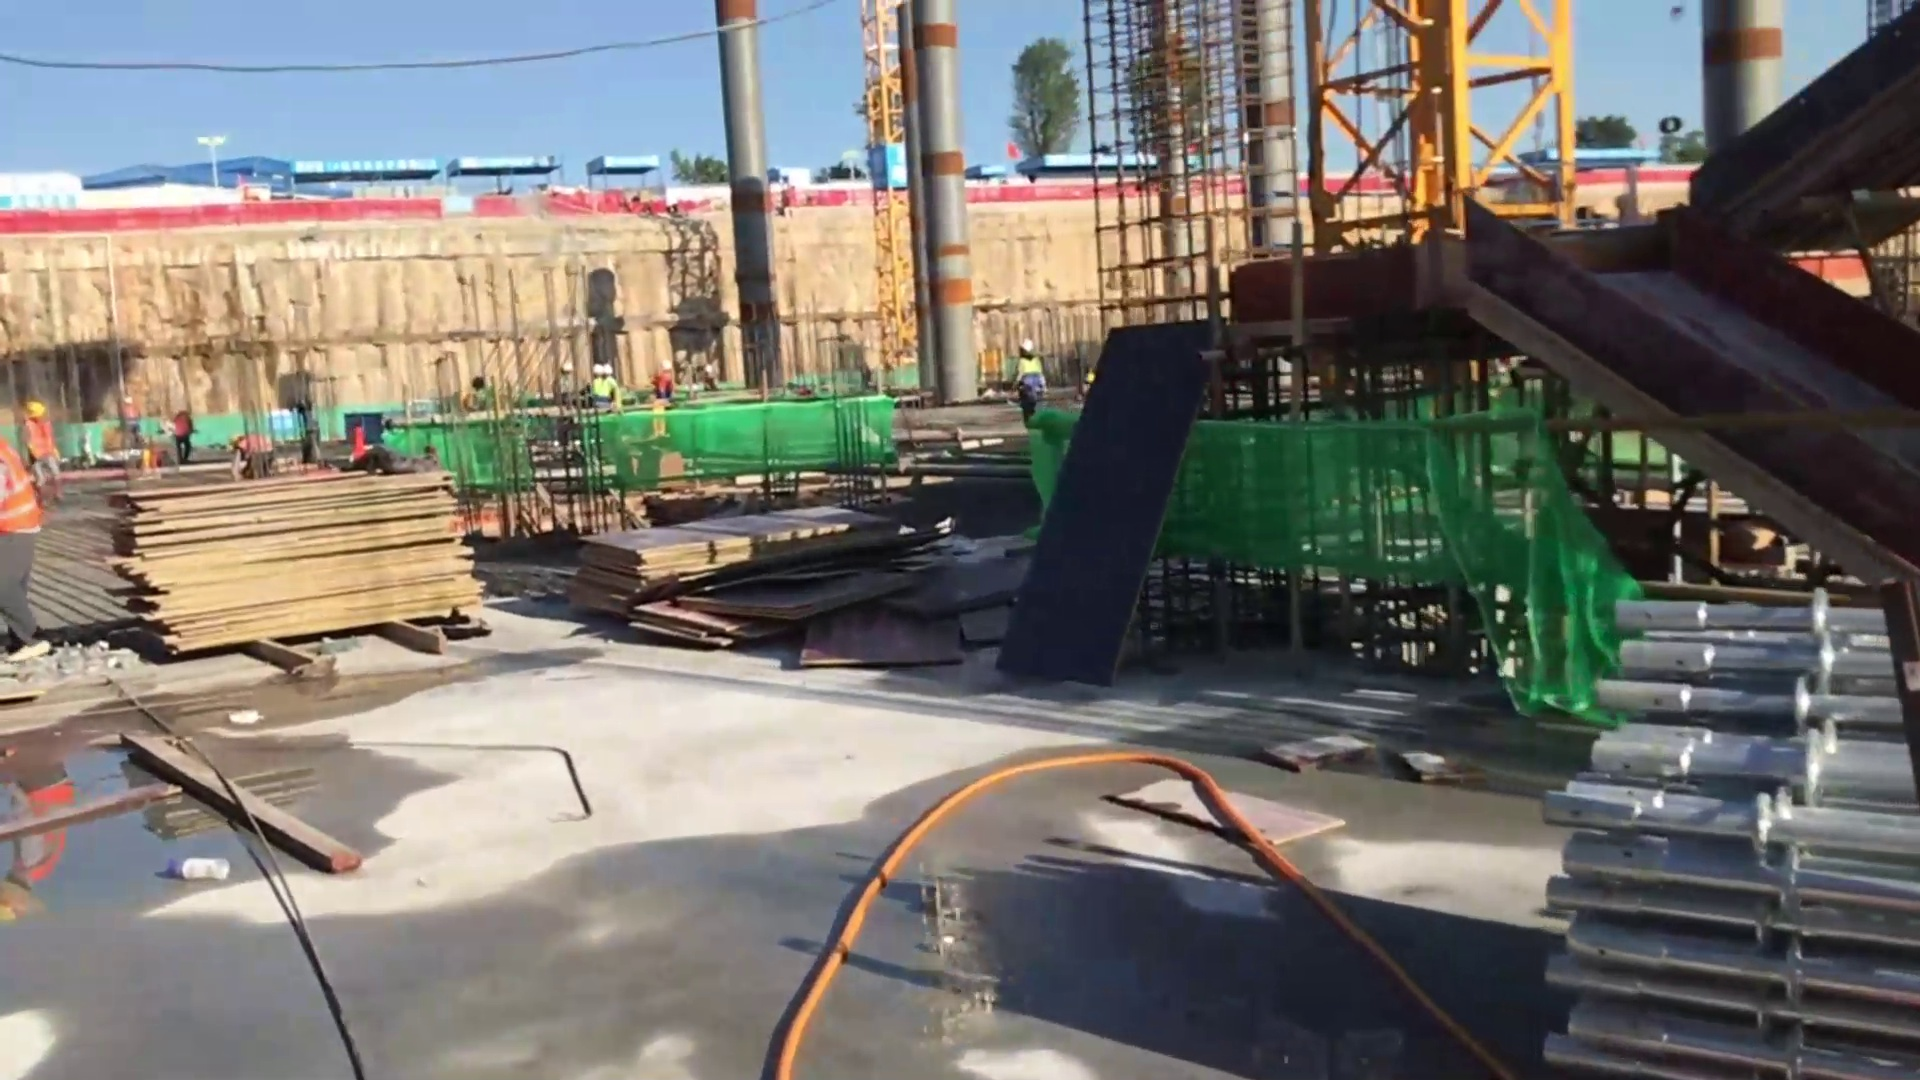board: (108, 453, 467, 641), (575, 519, 932, 637)
person: (1, 430, 39, 650), (19, 400, 65, 503), (1008, 335, 1048, 419), (648, 361, 677, 400), (590, 362, 608, 408), (552, 356, 571, 397)
scaffold: (1550, 597, 1920, 1080)
